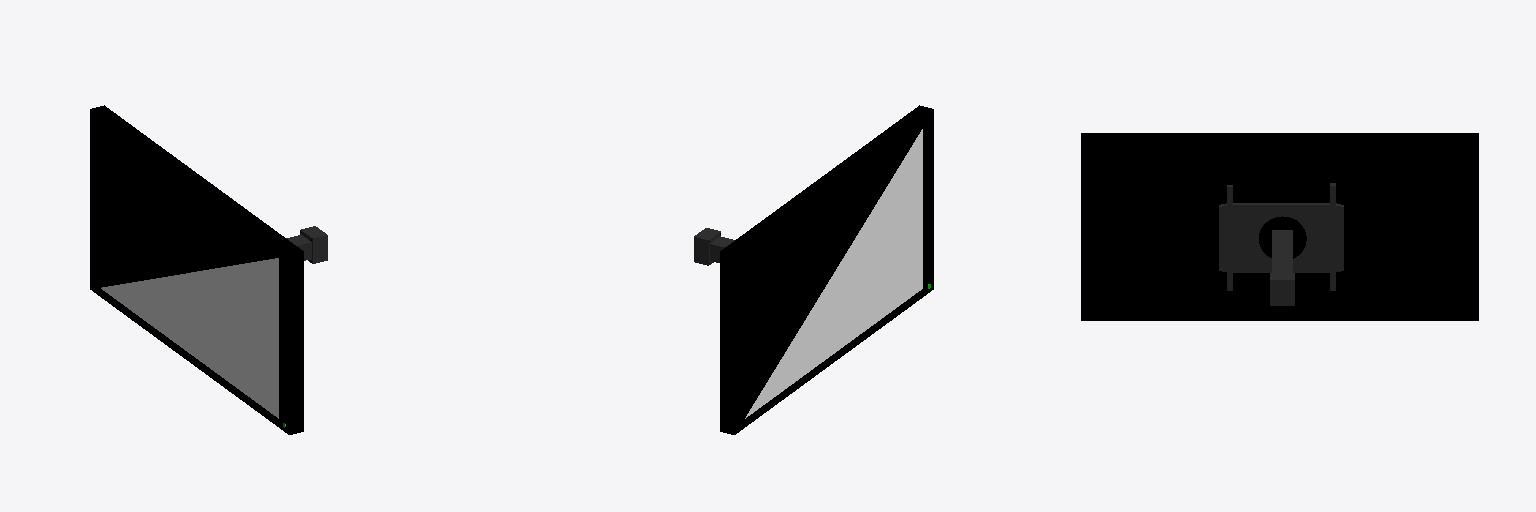
The model's file is scherm.obj.
The picture shows the model from 3 angles: view 1: azimuth 30°, elevation 25°; view 2: azimuth 150°, elevation 25°; view 3: azimuth 270°, elevation 25°; orthographic projection.
Visible parts, largest first — view 1: Cube_Cube.001, Cube.001_Cube.004, Cube.003_Cube.007; view 2: Cube_Cube.001, Cube.001_Cube.004, Cube.003_Cube.007; view 3: Cube_Cube.001, Cube.002_Cube.005, Cube.003_Cube.007, Cylinder.001_Cylinder.020.
Part boxes in pixels (x1,y1,x2,y2): Cube_Cube.001: (90, 105, 303, 434); Cube.001_Cube.004: (101, 258, 278, 418); Cube.003_Cube.007: (286, 226, 327, 263); Cube_Cube.001: (720, 105, 933, 434); Cube.001_Cube.004: (745, 129, 922, 418); Cube.003_Cube.007: (694, 228, 734, 265); Cube_Cube.001: (1081, 133, 1478, 320); Cube.002_Cube.005: (1219, 183, 1343, 290); Cube.003_Cube.007: (1270, 230, 1294, 305); Cylinder.001_Cylinder.020: (1259, 216, 1306, 258).
Bounding box in the file's own units: 0.7748 × 1 × 2.